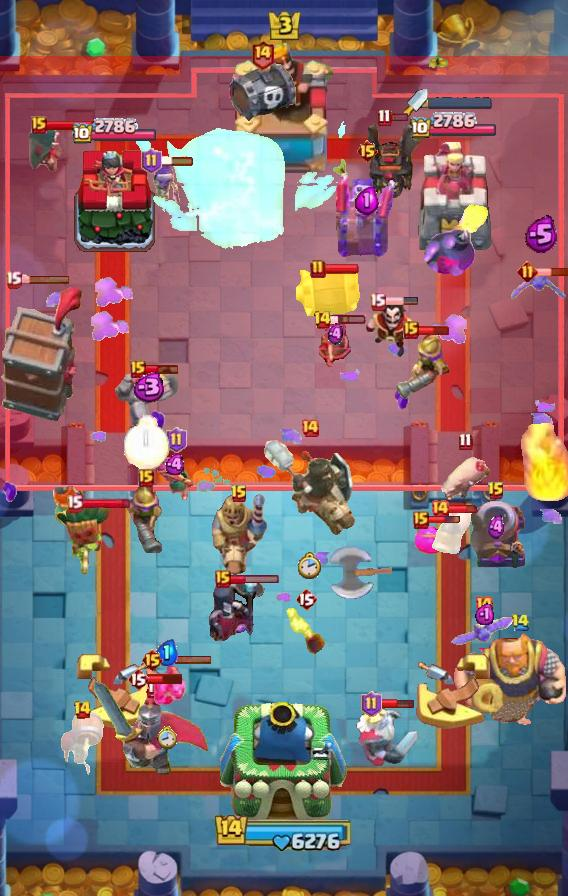archer: (157, 456, 195, 504), (319, 316, 351, 370)
axe: (326, 545, 392, 601)
bandit: (24, 123, 76, 175)
bar: (80, 497, 131, 510), (44, 119, 96, 131), (161, 654, 213, 665), (19, 274, 71, 285), (229, 574, 280, 585), (147, 672, 184, 685), (330, 314, 367, 326), (144, 363, 180, 375), (324, 263, 360, 275), (159, 155, 195, 167), (379, 698, 415, 709), (416, 325, 450, 336), (383, 296, 419, 306), (427, 515, 461, 525), (448, 504, 480, 514), (536, 267, 568, 277), (390, 112, 409, 122)
bar-level: (250, 39, 275, 70), (141, 648, 164, 672), (356, 139, 379, 163), (361, 691, 382, 717), (166, 427, 187, 453), (141, 148, 162, 174), (127, 667, 149, 691), (295, 587, 317, 611), (517, 261, 538, 282), (474, 595, 494, 615), (430, 499, 450, 519), (300, 418, 320, 438), (73, 700, 92, 720), (313, 310, 332, 330), (511, 613, 530, 632), (230, 484, 248, 504), (487, 481, 505, 501), (66, 494, 83, 513), (369, 292, 386, 311), (5, 270, 22, 289), (310, 259, 326, 279), (215, 570, 231, 588), (413, 511, 429, 529), (138, 469, 154, 487), (130, 360, 146, 378), (403, 321, 419, 339), (31, 116, 47, 134), (458, 432, 473, 451), (377, 108, 392, 127)
barbarian-barrel: (293, 265, 367, 317)
bat-evolution: (451, 617, 517, 651), (510, 270, 568, 304)
bomb: (422, 202, 494, 276)
clock: (124, 415, 170, 469), (298, 552, 322, 580), (156, 725, 177, 749)
dagger-duchess-tower: (412, 140, 494, 256)
dagger-duchess-tower-bar: (428, 97, 492, 109)
dart-goblin: (54, 499, 114, 575)
electro-wizard: (364, 300, 420, 360)
elixir: (524, 215, 558, 254), (129, 372, 166, 402), (355, 185, 379, 215), (155, 639, 178, 666), (487, 514, 506, 540), (165, 454, 187, 475), (475, 602, 494, 625), (328, 323, 343, 345)
elixir-golem-small: (415, 524, 447, 554)
fire-spirit: (284, 608, 328, 654)
golemite: (115, 369, 179, 429)
hog: (437, 456, 493, 506)
king-tower: (220, 701, 348, 826), (228, 41, 340, 181)
king-tower-bar: (214, 812, 354, 852)
minion: (145, 661, 187, 707)
mortar-evolution: (464, 501, 528, 571)
musketeer: (395, 331, 453, 401), (125, 479, 167, 553)
night-witch: (205, 577, 267, 647)
queen-tower: (71, 145, 157, 256)
royal-ghost: (355, 700, 419, 772)
royal-hog: (432, 506, 474, 556)
skeleton-evolution: (150, 163, 182, 205)
tower-bar: (409, 112, 498, 141), (71, 118, 158, 146)
valkyrie: (48, 481, 86, 533)
wall-breaker: (58, 711, 106, 777)
